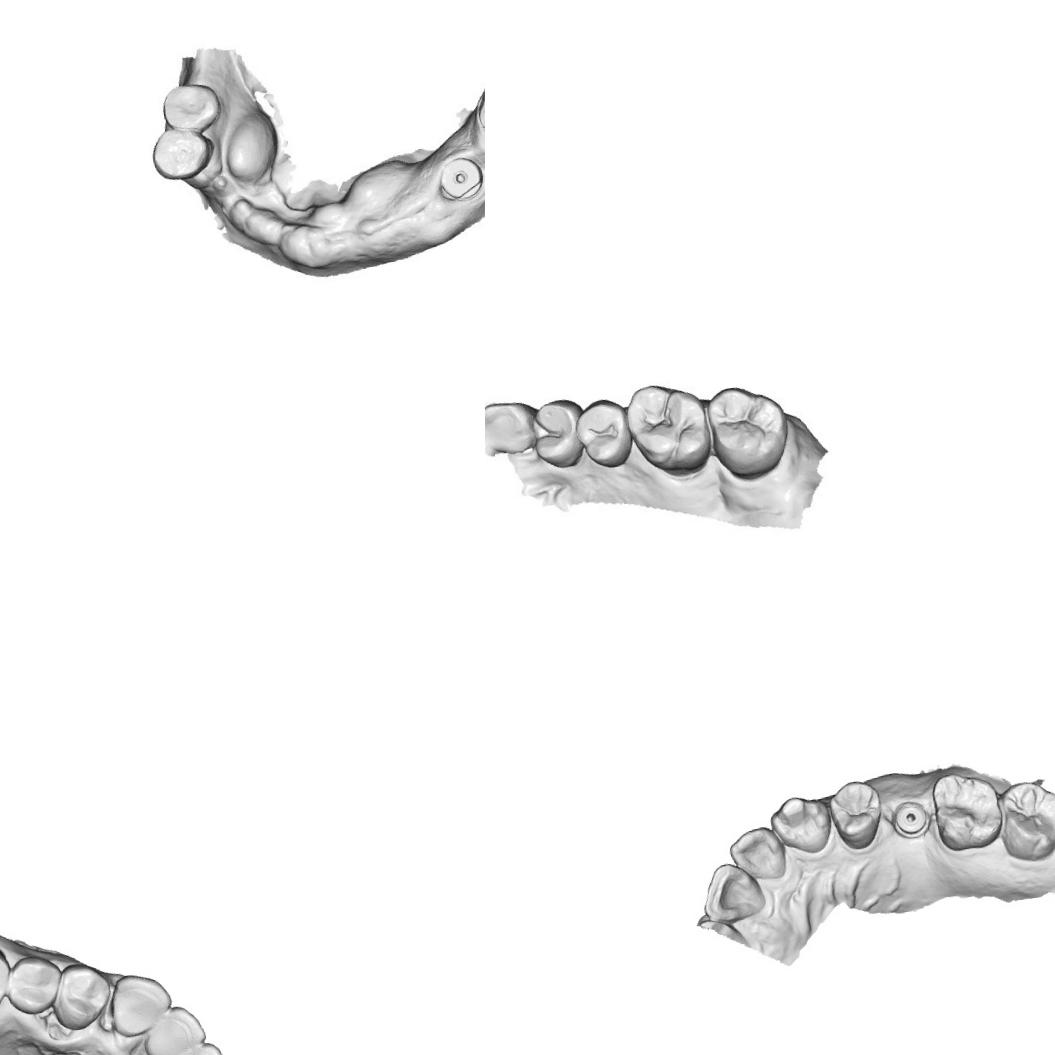canine: (104, 967, 177, 1040), (766, 788, 836, 859)
implant: (432, 150, 485, 205), (888, 795, 934, 844)
incisor: (698, 856, 772, 930), (726, 822, 790, 888), (138, 999, 213, 1055), (156, 1039, 234, 1055)
molar: (620, 375, 718, 482), (701, 378, 795, 484), (926, 763, 1006, 856), (995, 774, 1055, 865), (0, 944, 17, 1029)
premolar: (46, 958, 118, 1034), (822, 771, 888, 853), (527, 394, 590, 474), (574, 394, 634, 473), (3, 948, 68, 1020), (148, 124, 215, 186), (155, 80, 223, 136)
